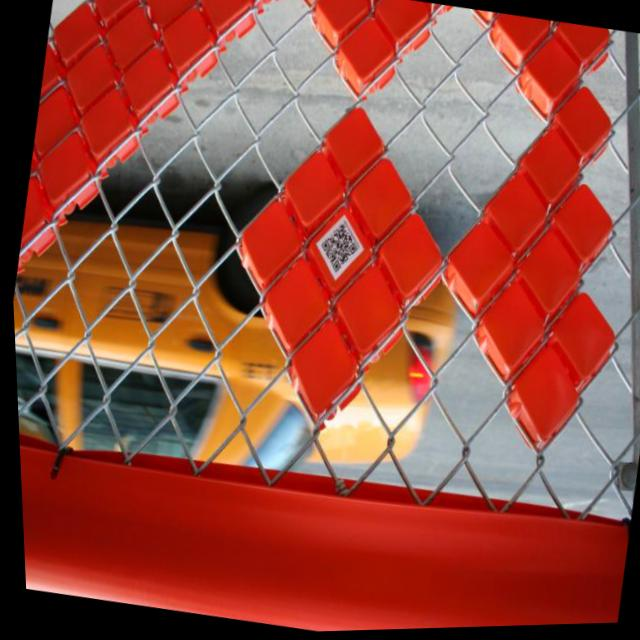qrcode: (314, 221, 359, 276)
